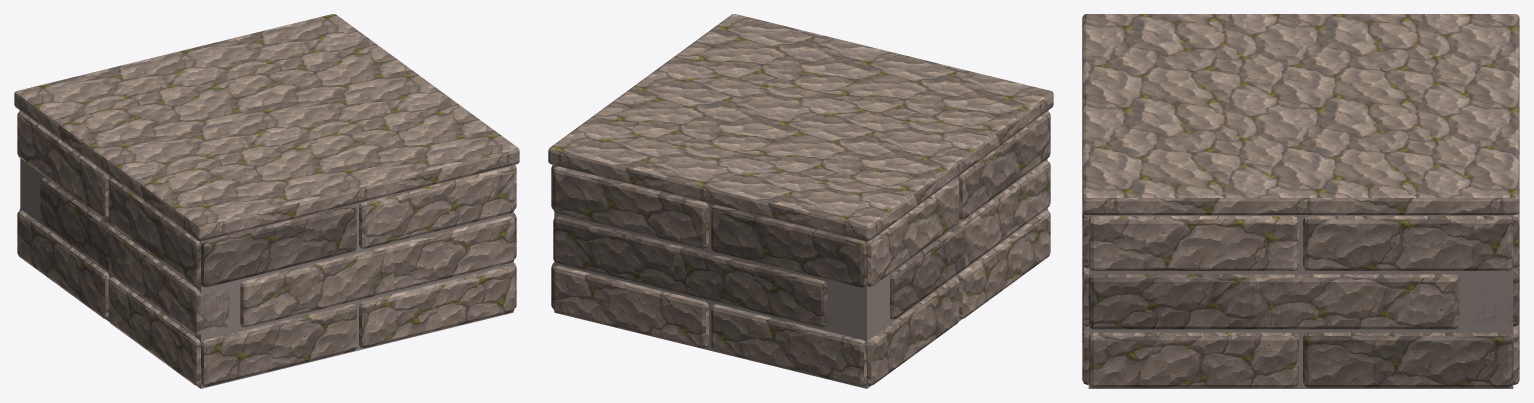
File: foundation__copper_ingot.glb
3 renders of one model, left to right at view 1: azimuth 30°, elevation 25°; view 2: azimuth 150°, elevation 25°; view 3: azimuth 270°, elevation 25°, orthographic. The views are drawn at different scales.
Visible parts, largest first — view 1: model; view 2: model; view 3: model.
Part boxes in pixels (box(x1,y1,x2,y2)): model: box(14, 14, 519, 388); model: box(548, 14, 1053, 388); model: box(1082, 14, 1519, 388).
Size of the model in its own units: 2.04 by 1 by 2.04.
Materials: 4 (3 with a texture image).
